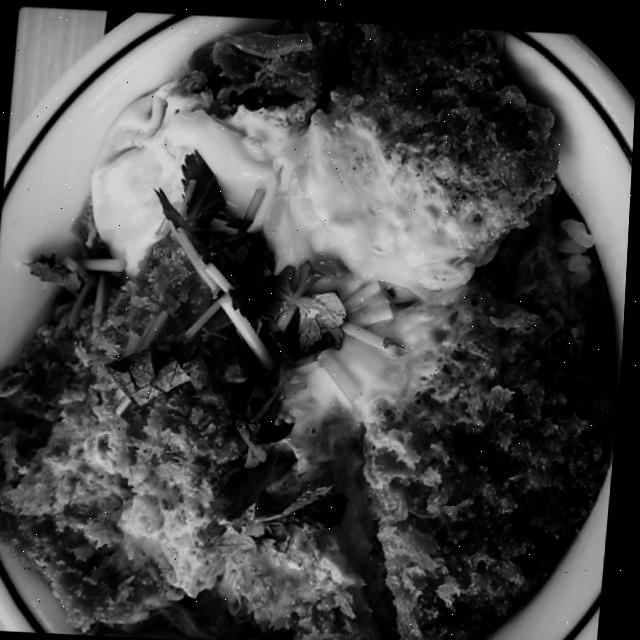牛肉菜式: (0, 24, 639, 640)
